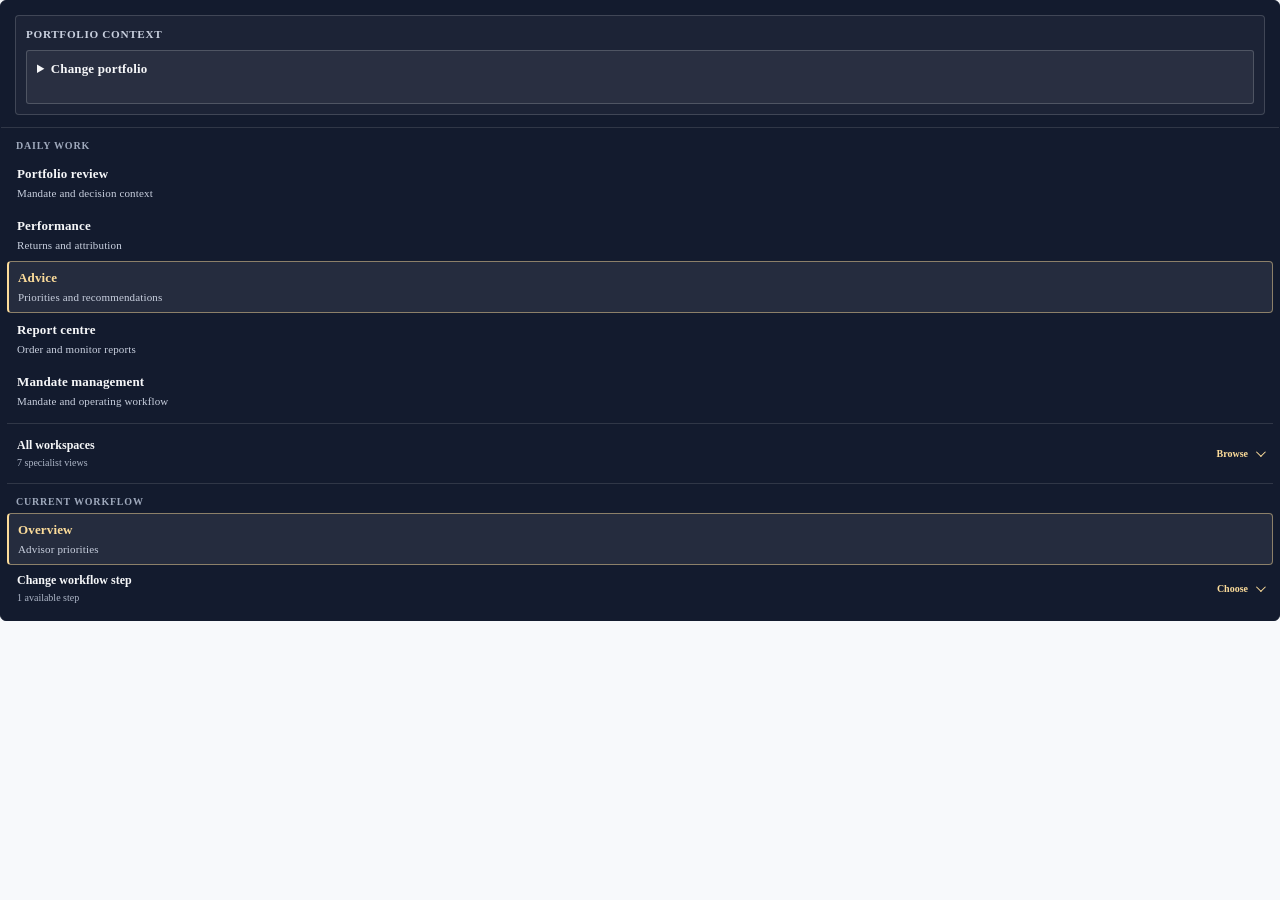
Scenario: PortfolioScreenRail › keeps only the current workflow step visible until the advisor changes it
This screenshot has width=1280, height=900.
Check: the link "Suitability" is not shown
Click the button "Change workflow step 1 available step Choose": click(74, 580) [7,565,1273,612]
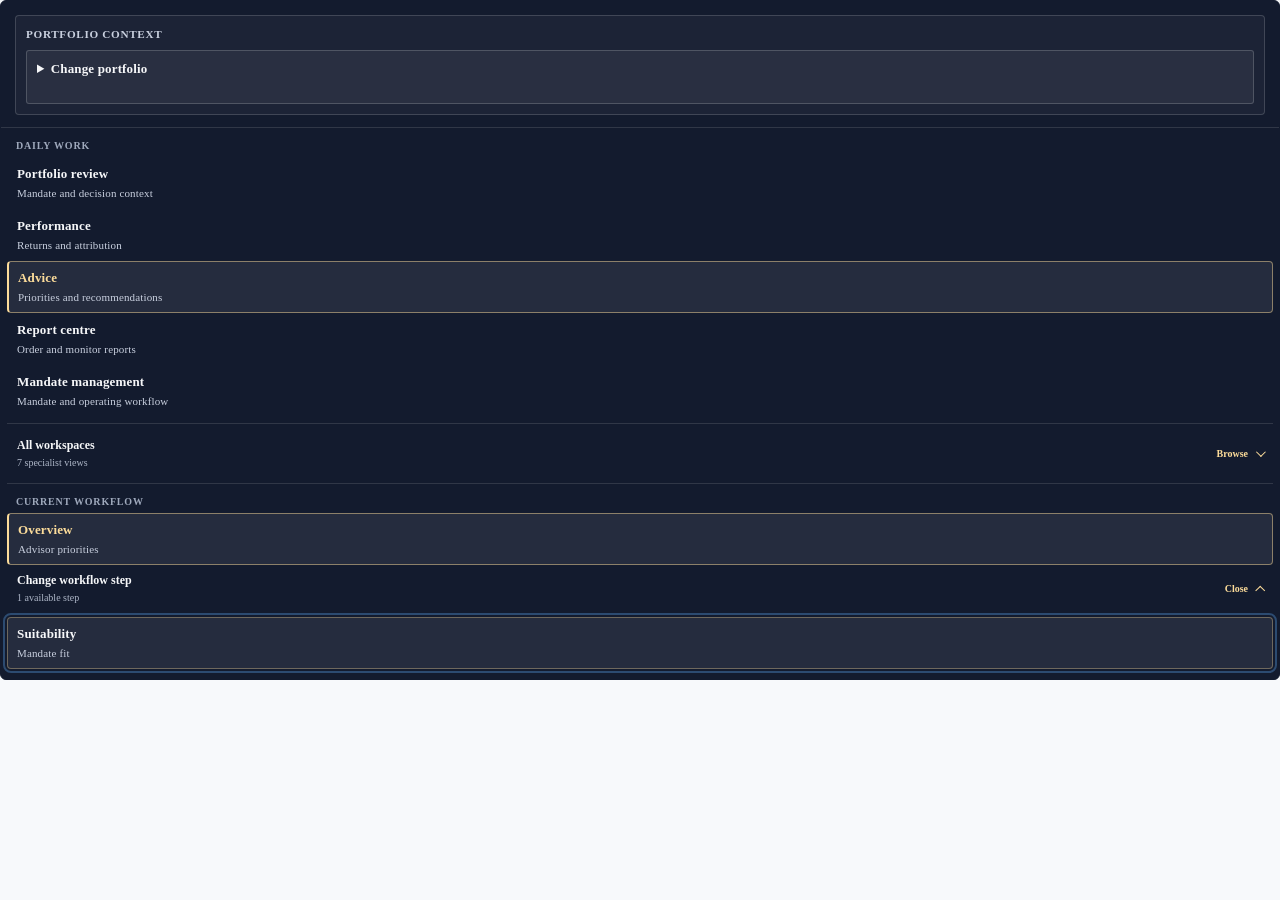
Check: the link "Suitability Mandate fit" is shown
Press Escape in the link "Suitability Mandate fit", box [7,617,1273,669]
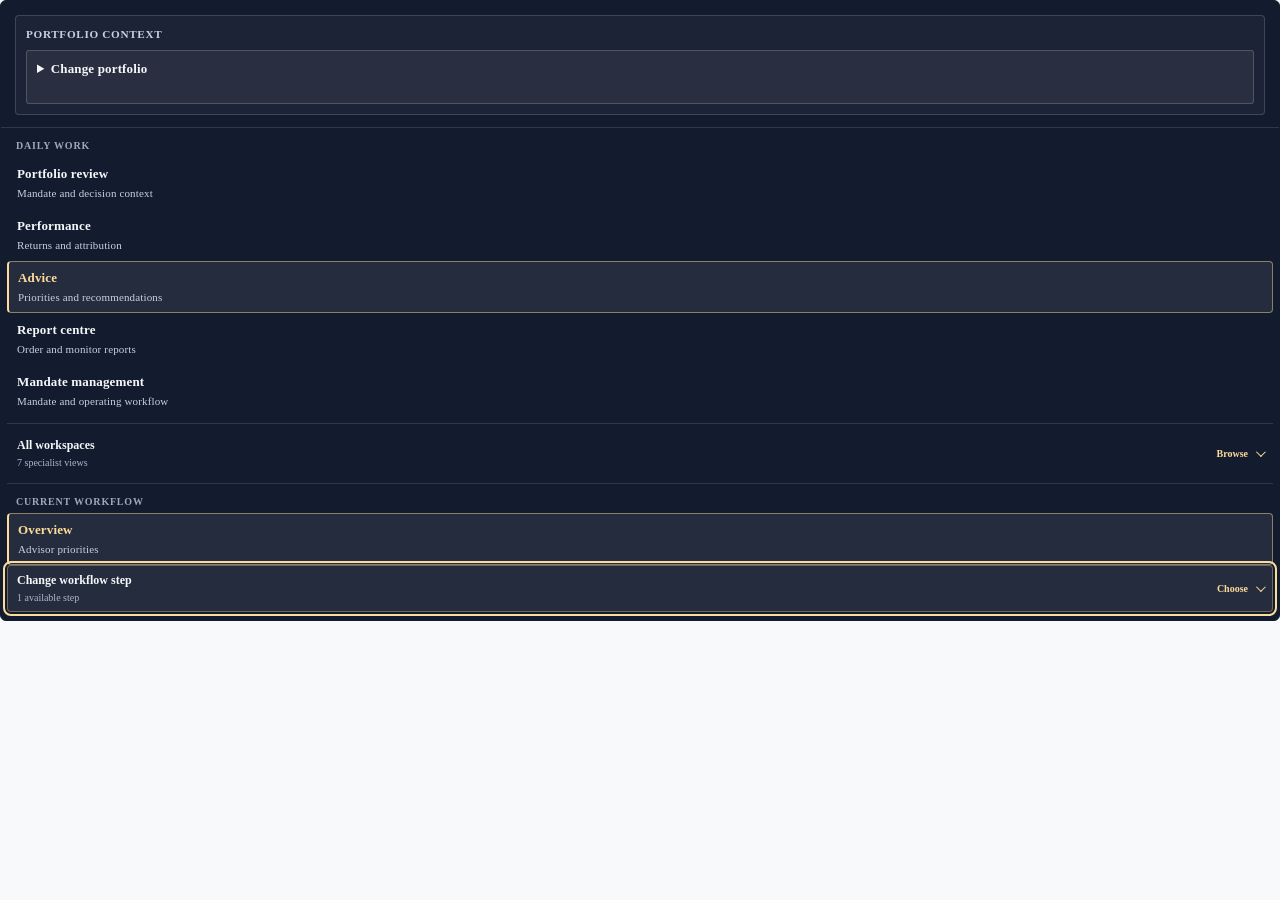
Check: the button "Change workflow step 1 available step Choose" is collapsed, box [7,565,1273,612]
